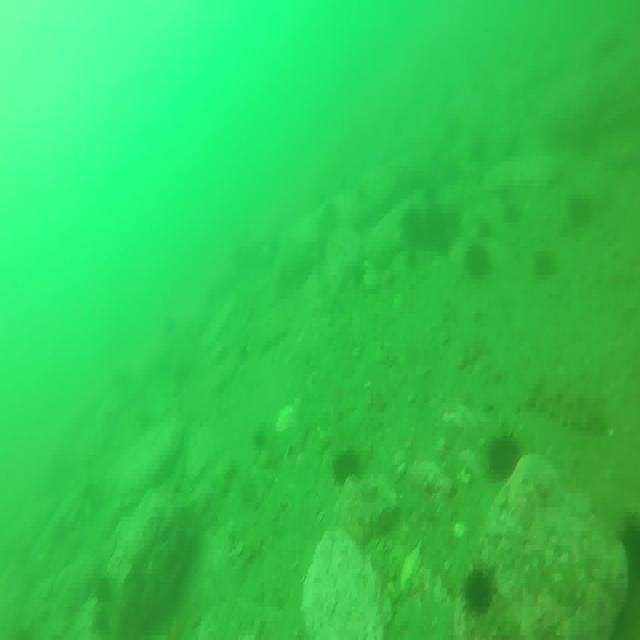echinus: (459, 563, 496, 613), (485, 433, 522, 478), (330, 450, 360, 490), (471, 240, 497, 284), (618, 512, 640, 564), (431, 221, 457, 255), (570, 192, 594, 228), (405, 209, 428, 243), (530, 254, 554, 284)
holothurian: (527, 372, 608, 440)
